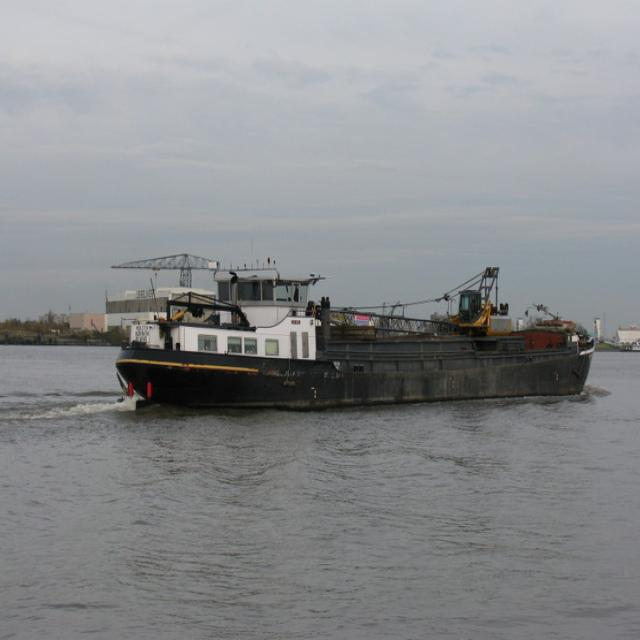fishing boat: (120, 252, 593, 404)
